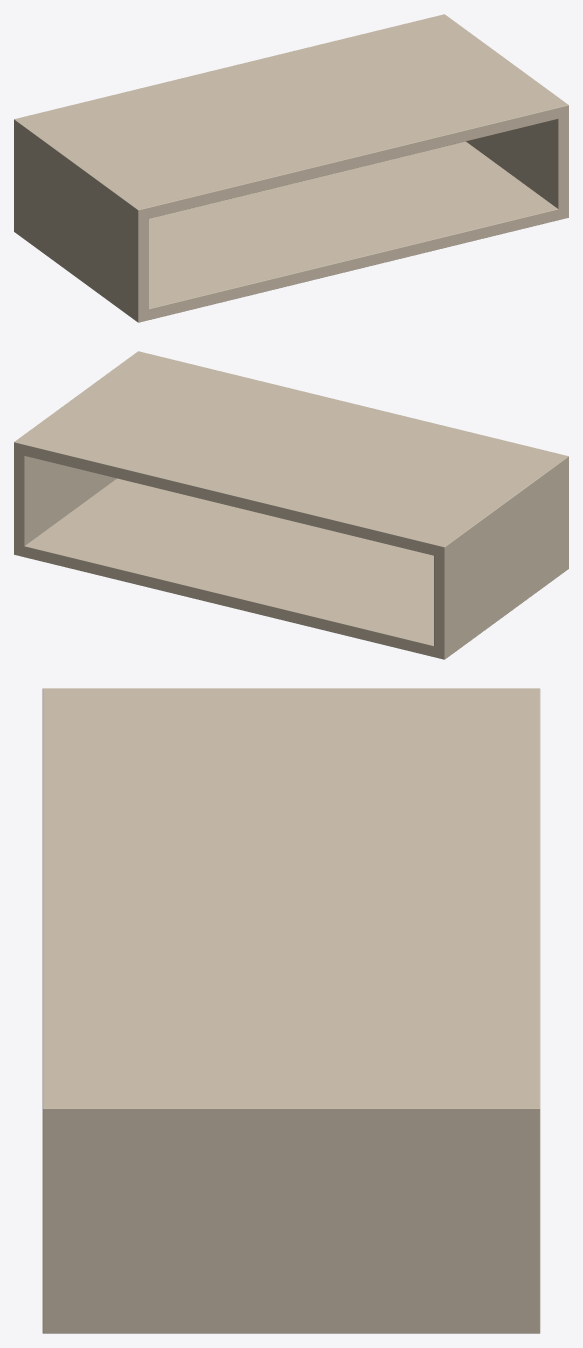
Rendered from MOD-2X05-A-O-AR.glb.
3 views of the same model, one above another, from view 1: azimuth 30°, elevation 25°; view 2: azimuth 150°, elevation 25°; view 3: azimuth 270°, elevation 25° (orthographic). The views are drawn at different scales.
Bounding box in the file's own units: 720 × 180 × 360.
